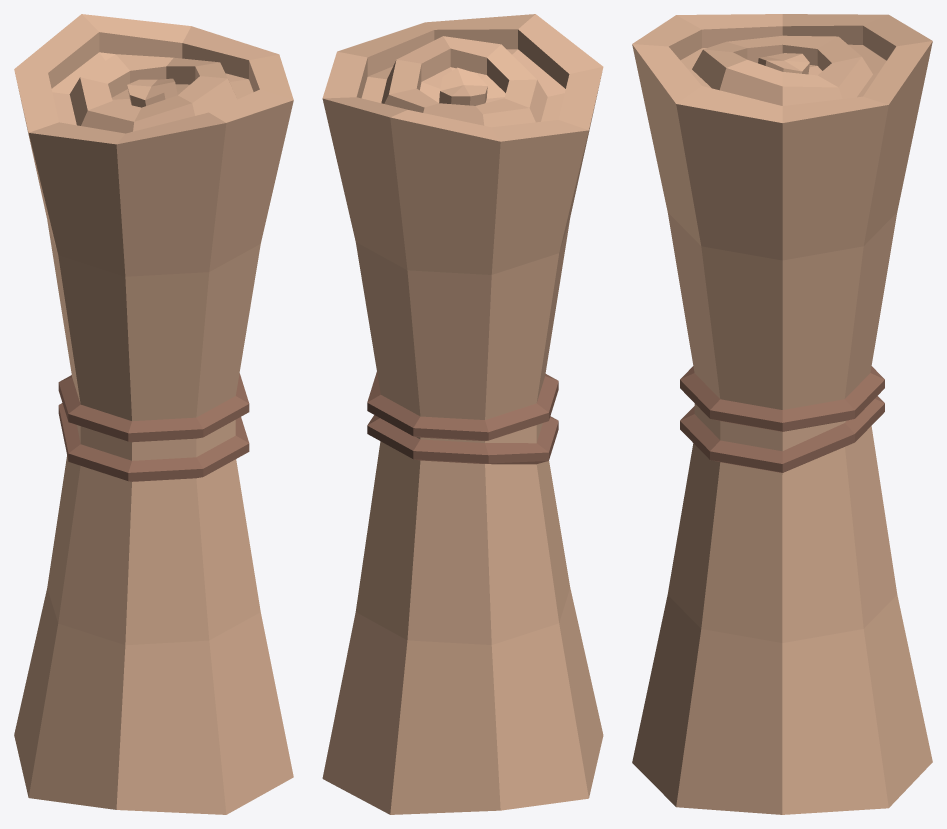
File: Scroll.fbx
3 renders of one model, left to right at view 1: azimuth 30°, elevation 25°; view 2: azimuth 150°, elevation 25°; view 3: azimuth 270°, elevation 25°, orthographic. The views are drawn at different scales.
Visible parts, largest first — view 1: Scroll; view 2: Scroll; view 3: Scroll.
Part boxes in pixels (x1=…): Scroll: x1=14, y1=14, x2=293, y2=814; Scroll: x1=322, y1=14, x2=603, y2=814; Scroll: x1=632, y1=14, x2=932, y2=814.
Size of the model in its own units: 13.41 by 35.79 by 13.41.
